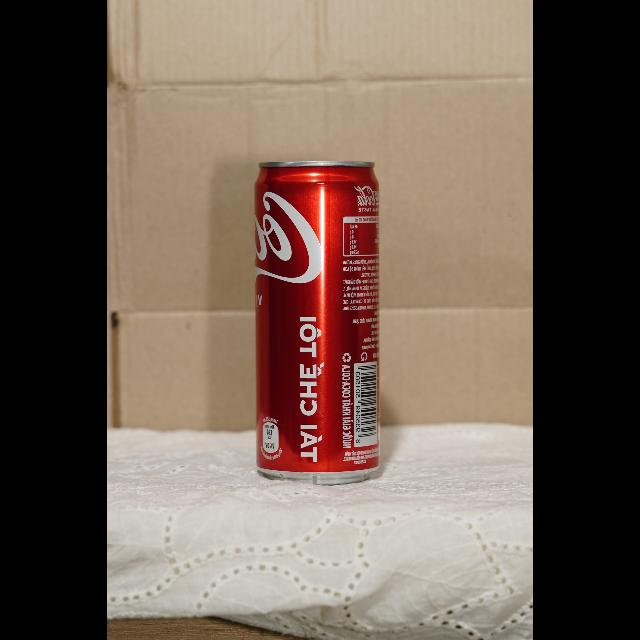coca_cola: (253, 160, 381, 484)
